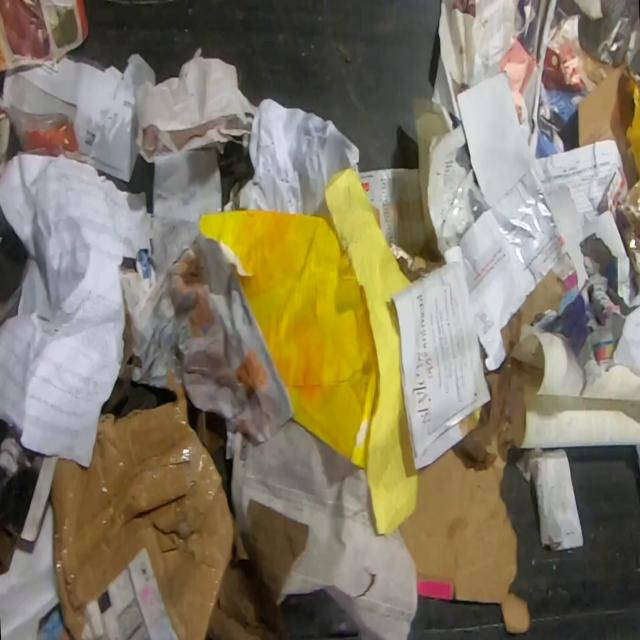cardboard: (396, 266, 568, 634), (48, 368, 233, 640), (576, 62, 640, 191), (412, 95, 450, 259), (387, 240, 447, 283)
